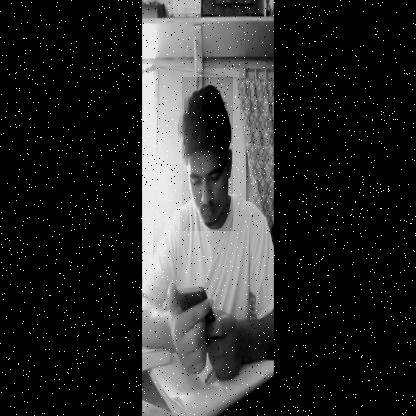Normal: (182, 77, 233, 231)
